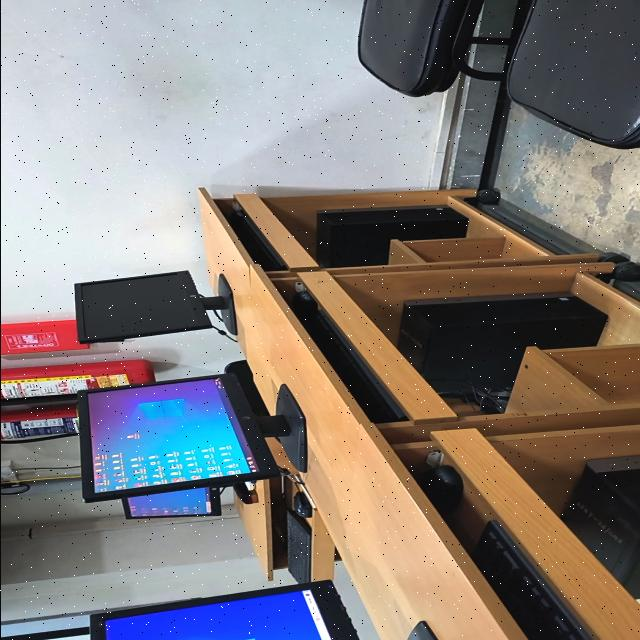Chair: (506, 0, 640, 149), (358, 0, 509, 97), (224, 360, 267, 416)
Cpu: (396, 294, 606, 398), (560, 456, 640, 599), (316, 207, 466, 267)
Fire Extinguisher: (0, 360, 154, 399), (0, 405, 77, 442)
Keyboard: (291, 288, 406, 423), (471, 520, 594, 640), (224, 201, 286, 271), (286, 510, 311, 583)
Monitor: (77, 372, 305, 502), (89, 580, 359, 640), (75, 271, 236, 344), (121, 488, 225, 519), (405, 621, 437, 640)
Mouse: (419, 466, 462, 517), (291, 284, 316, 316), (292, 492, 311, 518)
